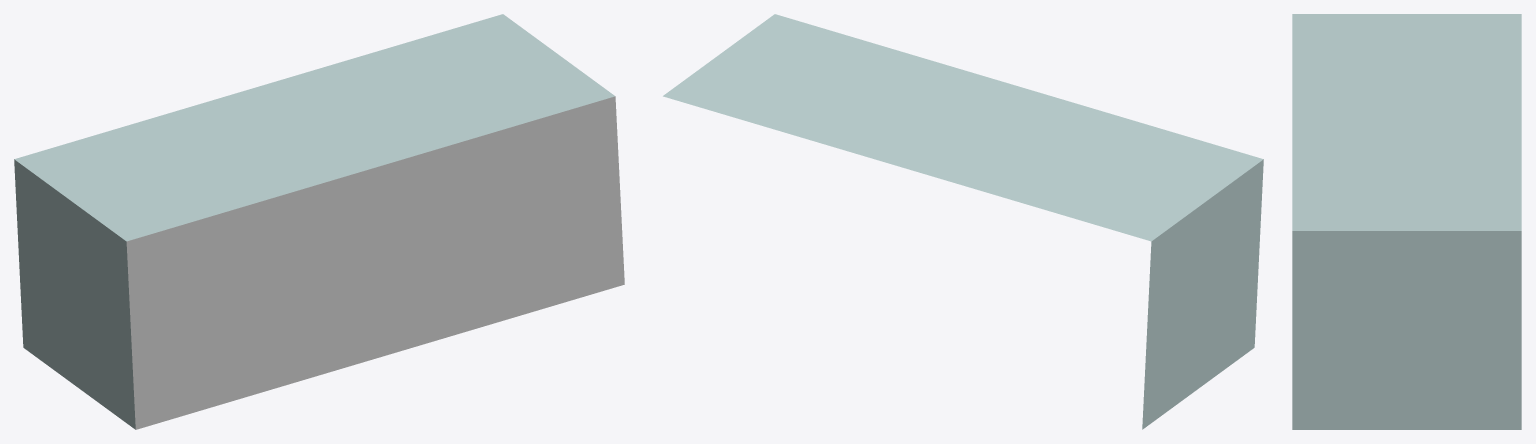
3 views of the same model, side by side, from view 1: azimuth 30°, elevation 25°; view 2: azimuth 150°, elevation 25°; view 3: azimuth 270°, elevation 25° (orthographic). The views are drawn at different scales.
Visible parts, largest first — view 1: 0_2_2_0_2_2_1_1_3; view 2: 0_2_2_0_2_2_1_1_3; view 3: 0_2_2_0_2_2_1_1_3.
Part boxes in pixels (box(x1,y1,x2,y2)): 0_2_2_0_2_2_1_1_3: box(14, 14, 624, 429); 0_2_2_0_2_2_1_1_3: box(663, 14, 1263, 429); 0_2_2_0_2_2_1_1_3: box(1292, 14, 1521, 429).
Size of the model in its own units: 7.68 by 3.19 by 3.
